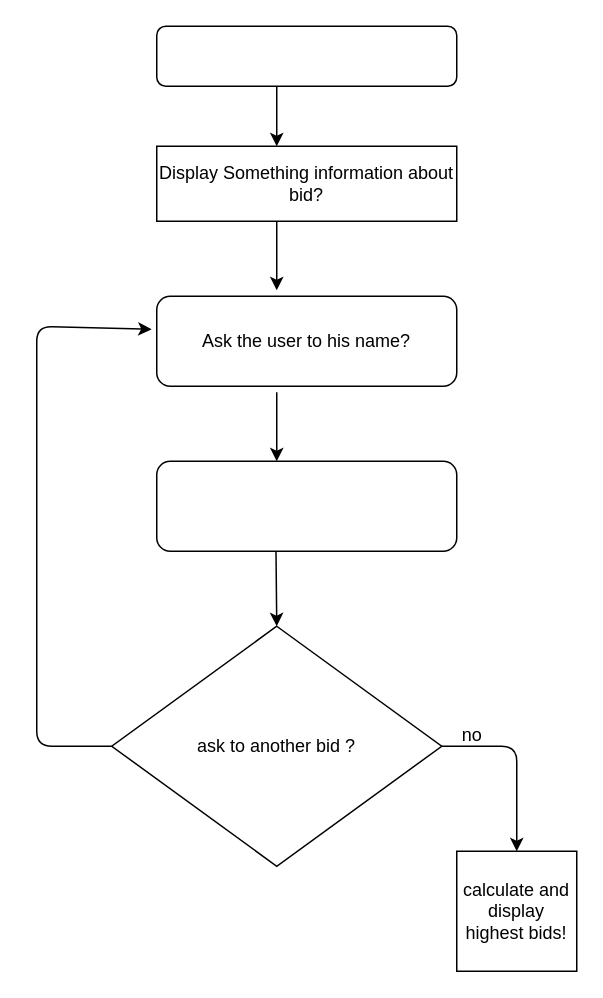
The diagram is 603 pixels wide and 998 high, and some of its shapes have lost their labels. The box of each missing label's shape, as (x1, y1, x2, y2) in pixels:
Ask the user to his bid?: (155, 460, 457, 551)
Start: (155, 25, 457, 86)
